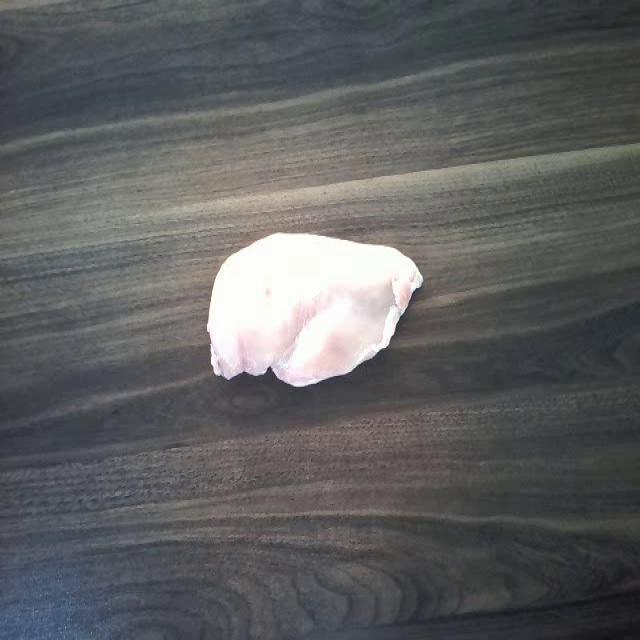breast: (210, 226, 412, 385)
